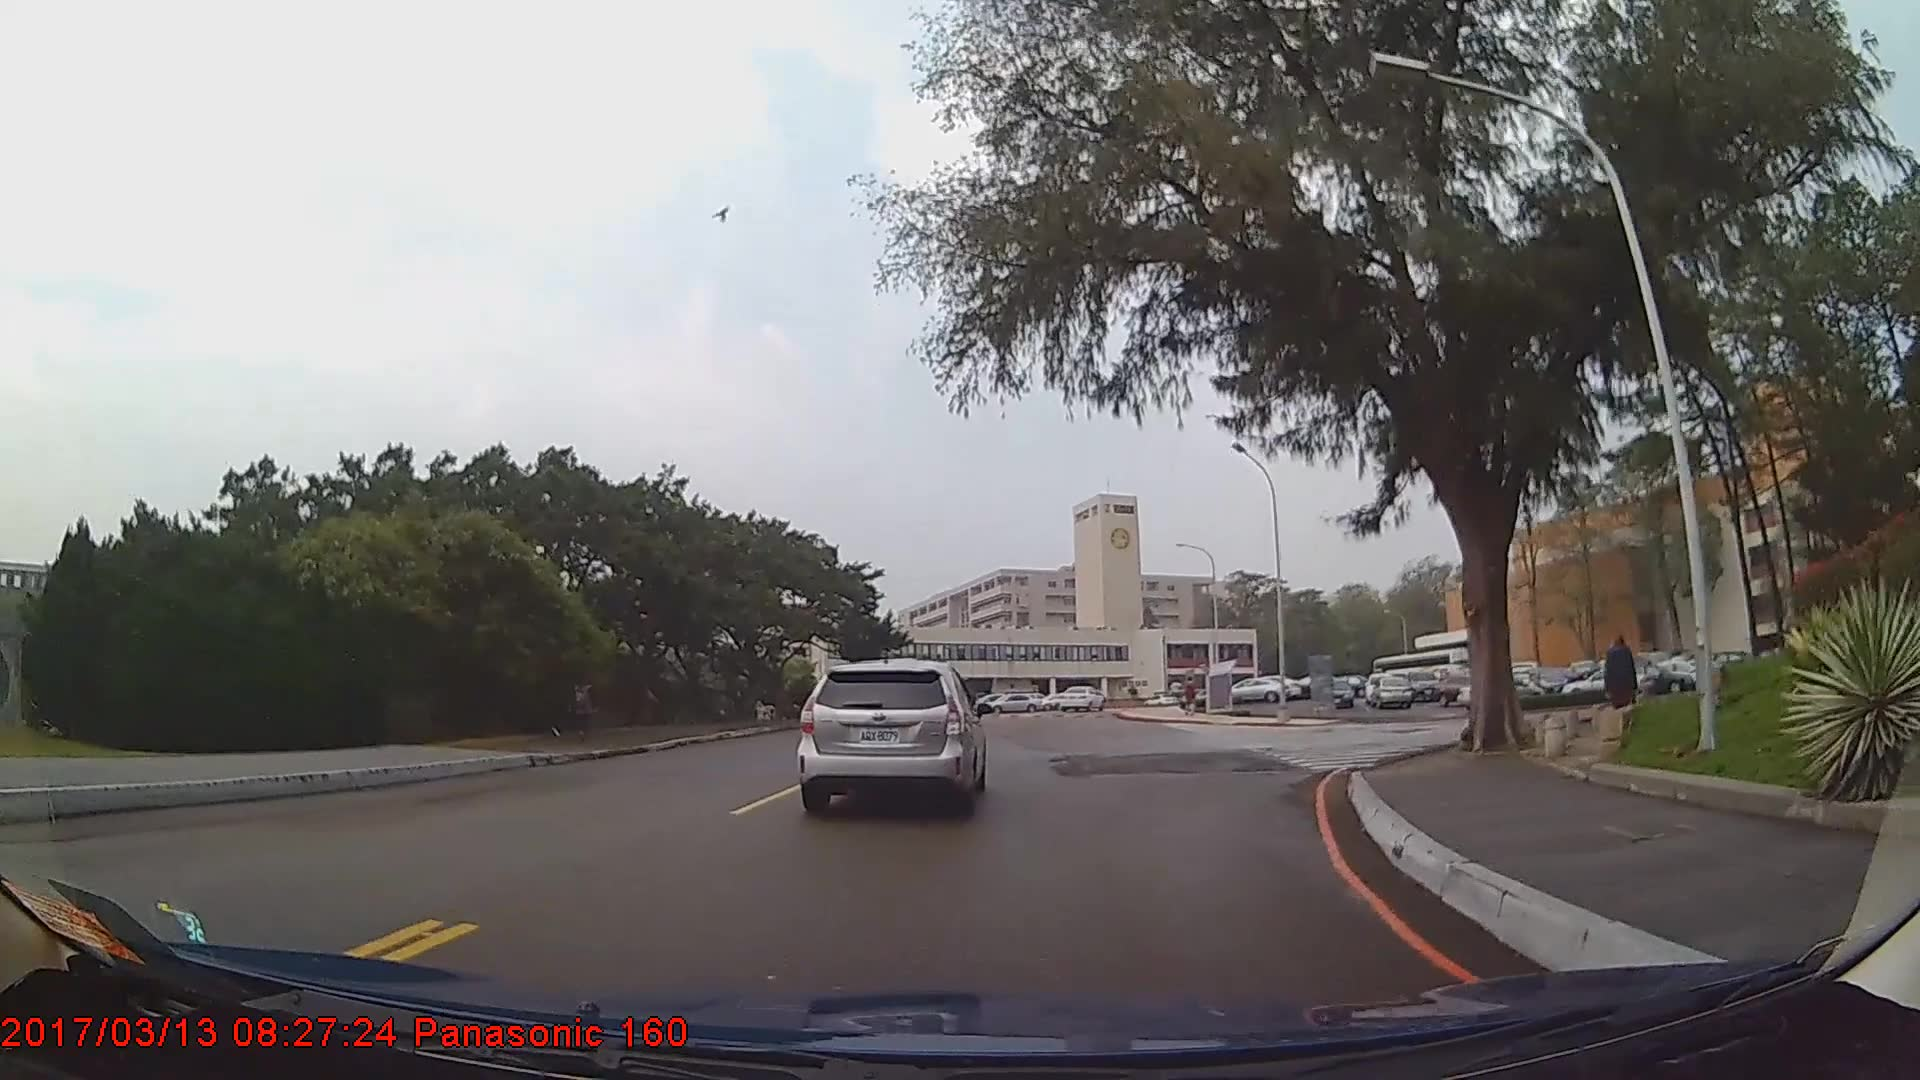pedestrian: (1603, 631, 1640, 747)
vehicle: (798, 655, 987, 815), (1221, 677, 1290, 702), (1371, 676, 1416, 713), (1056, 686, 1105, 714), (981, 693, 1041, 716), (1403, 668, 1441, 700), (1322, 681, 1355, 710)
